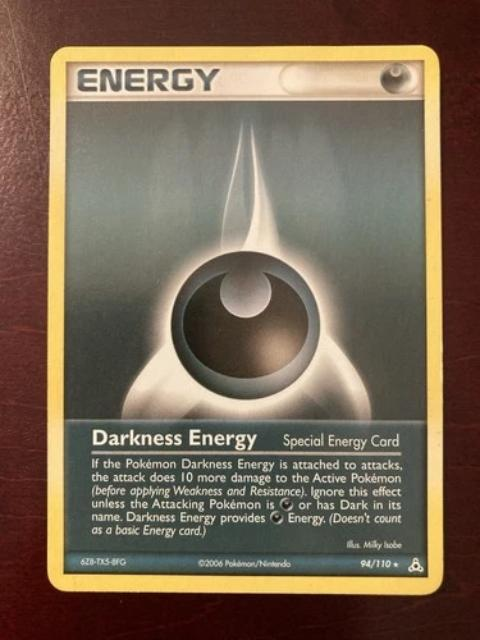Card: (41, 39, 449, 598)
Name: (84, 426, 267, 455)
